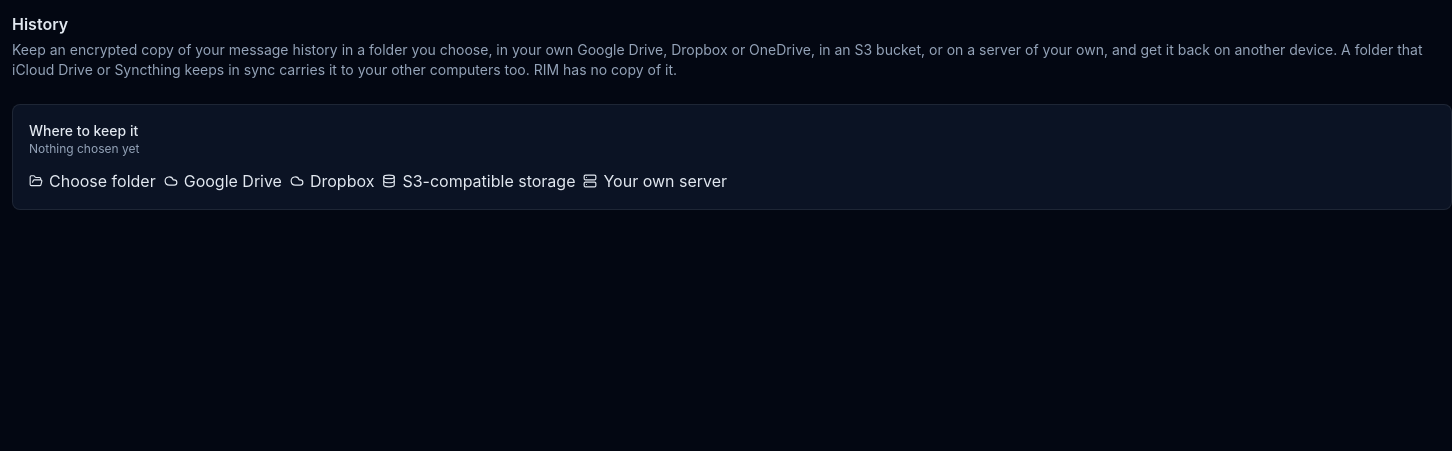
Scenario: HistoryArchiveSettings › drops an unused cloud sign-in when a folder is chosen instead
Click the button "Google Drive" at {"x": 223, "y": 181}, box [164, 169, 282, 193]
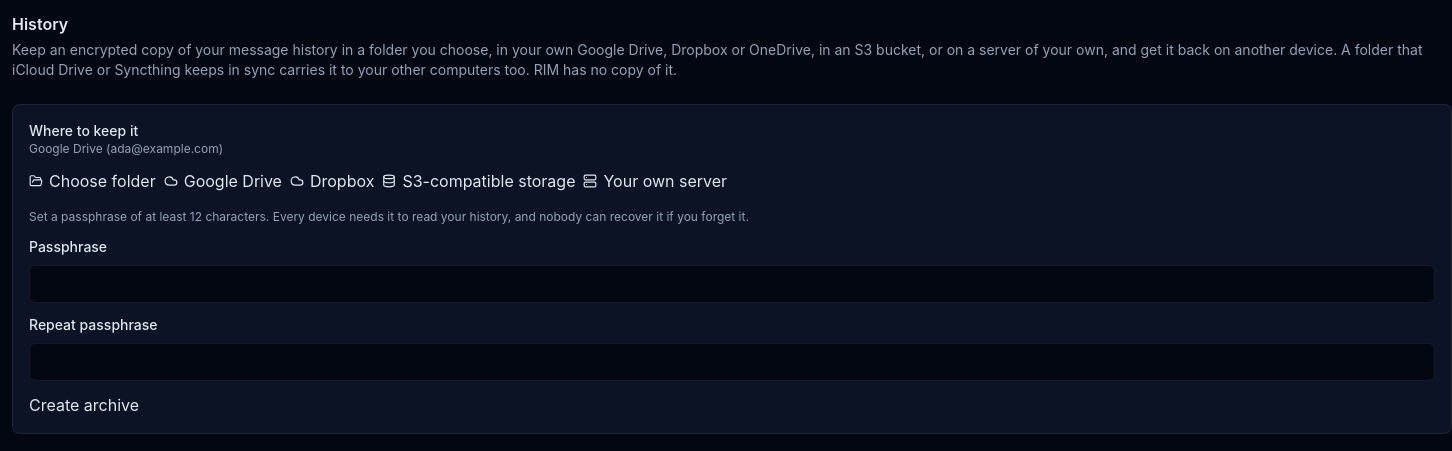
Check: the text "Google Drive (ada@example.com)" is shown, box [29, 141, 223, 156]
Click the button "Choose folder" at {"x": 92, "y": 181}, box [29, 169, 156, 193]
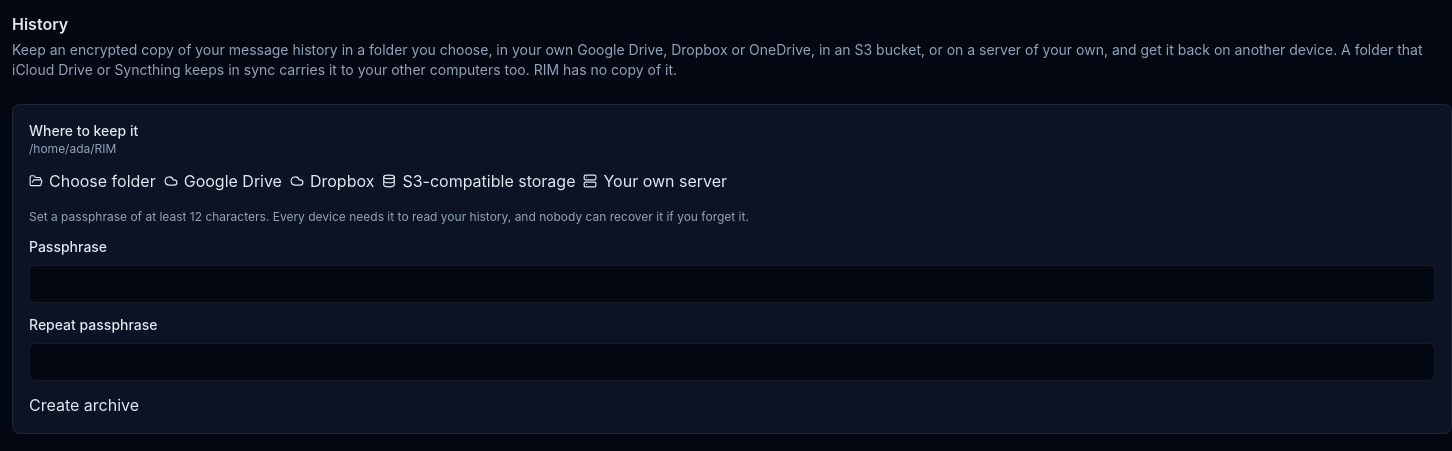
Check: the text "/home/ada/RIM" is shown, box [29, 141, 116, 156]
